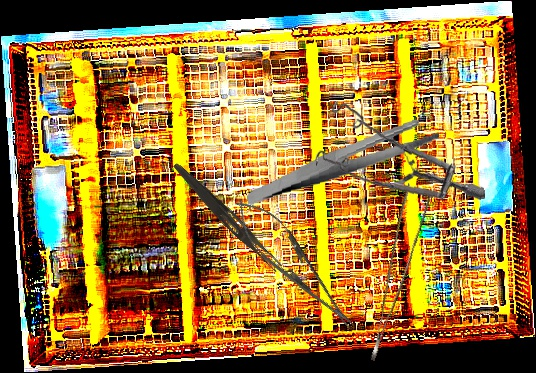Dressing Forceps: (240, 116, 445, 207), (167, 160, 287, 274)
Needle Holder: (223, 188, 366, 341)
Speculum: (309, 86, 486, 217)
Tissue Forceps: (341, 182, 442, 362)
